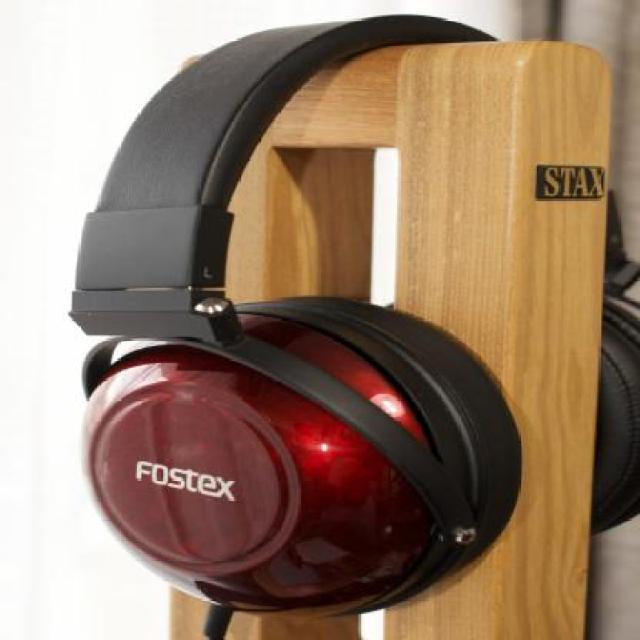earphone: (72, 6, 565, 602)
